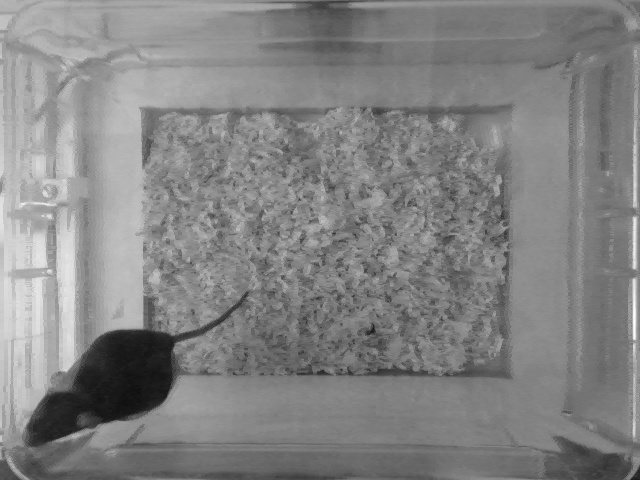mice: (18, 287, 256, 449)
